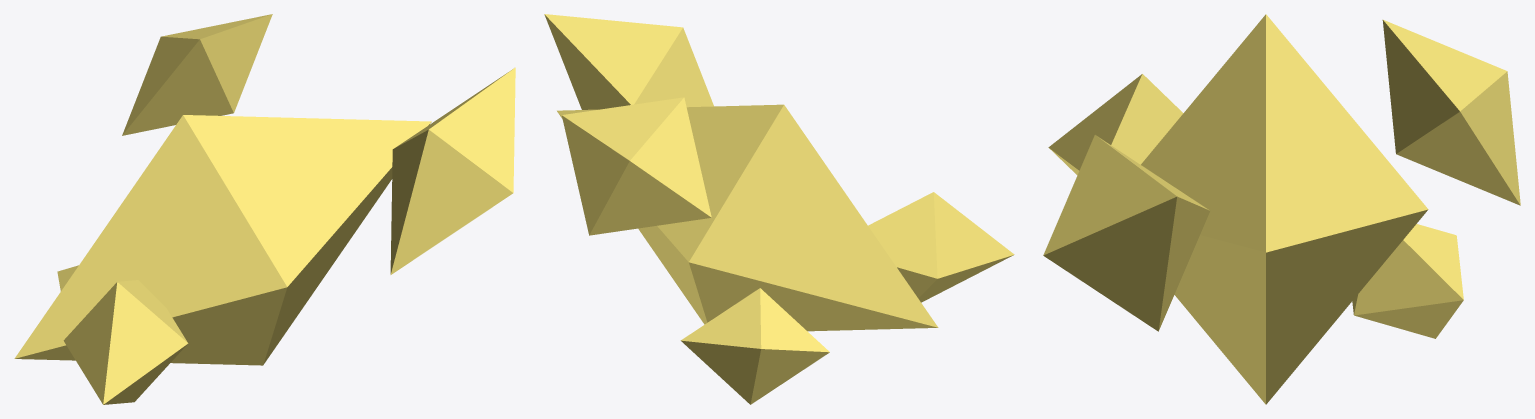
The model's file is sugar.glb.
The picture shows the model from 3 angles, left to right: view 1: azimuth 30°, elevation 25°; view 2: azimuth 150°, elevation 25°; view 3: azimuth 270°, elevation 25°; orthographic projection. The views are drawn at different scales.
Parts seen in each view (by area): view 1: Crystal0, Crystal1, Crystal3, Crystal2; view 2: Crystal0, Crystal3, Crystal1, Crystal4, Crystal2; view 3: Crystal0, Crystal1, Crystal3, Crystal4, Crystal2.
Part boxes in pixels (x1=…): Crystal0: x1=14, y1=115, x2=431, y2=365; Crystal1: x1=390, y1=67, x2=515, y2=274; Crystal3: x1=122, y1=14, x2=272, y2=135; Crystal2: x1=63, y1=280, x2=188, y2=404; Crystal0: x1=557, y1=104, x2=938, y2=331; Crystal3: x1=561, y1=97, x2=711, y2=235; Crystal1: x1=544, y1=14, x2=713, y2=109; Crystal4: x1=680, y1=288, x2=829, y2=404; Crystal2: x1=868, y1=192, x2=1014, y2=302; Crystal0: x1=1141, y1=14, x2=1428, y2=404; Crystal1: x1=1043, y1=135, x2=1209, y2=331; Crystal3: x1=1382, y1=19, x2=1520, y2=205; Crystal4: x1=1352, y1=224, x2=1463, y2=338; Crystal2: x1=1048, y1=74, x2=1183, y2=175.
Size of the model in its own units: 1 by 0.6115 by 0.702.
